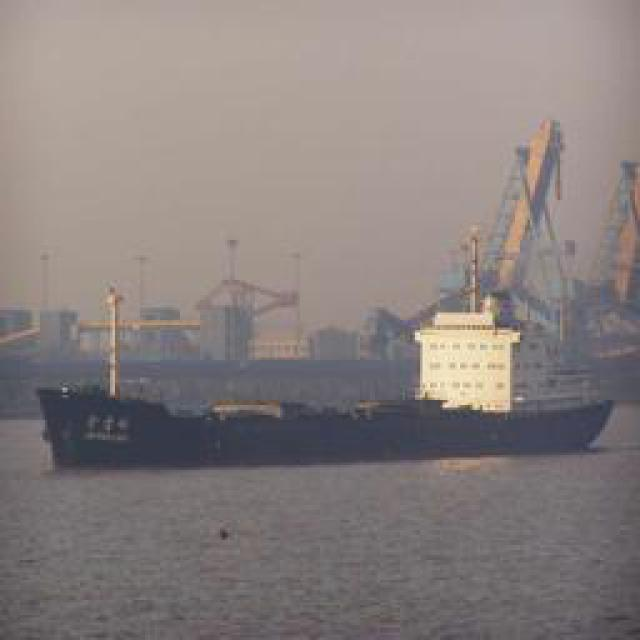Ship: (25, 284, 608, 469)
